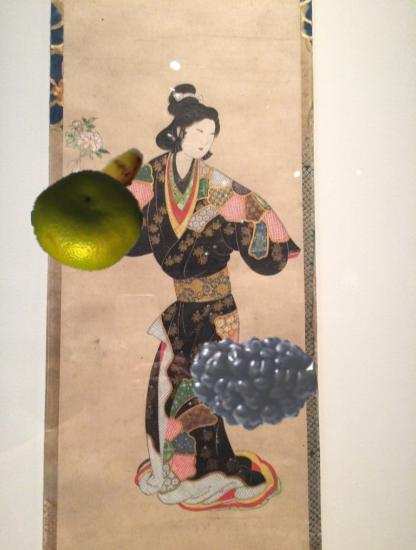Banana: (45, 133, 156, 244)
Mulberry: (189, 319, 317, 447)
Pomelo: (31, 165, 143, 277)
